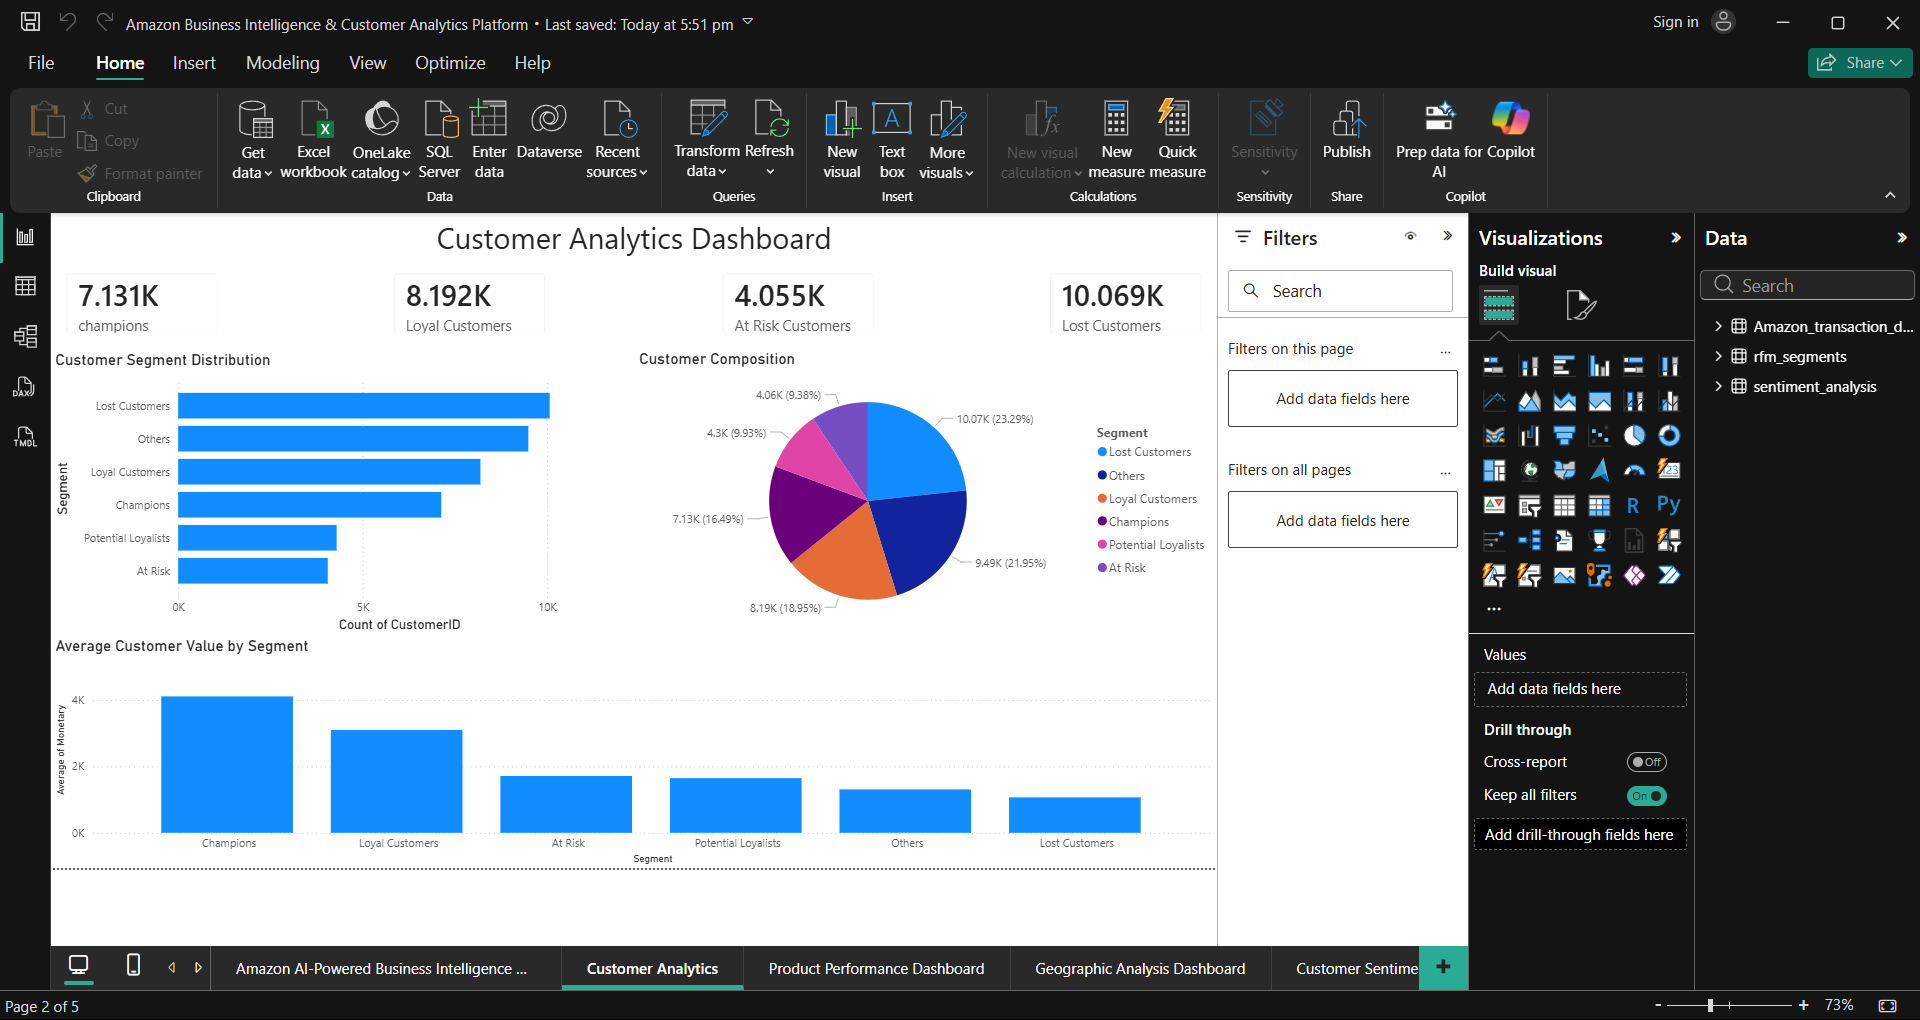

The page's visual inventory and layout, read from the dashboard file:
{"tool":"powerbi","page":{"name":"Customer Analytics","canvas":[1280,720],"ordinal":1},"visuals":[{"type":"textbox","box":[0,0,1280.3,53.5],"z":0},{"type":"clusteredBarChart","title":"Customer Segment Distribution","fields":{"Category":["rfm_segments.Segment"],"Y":["CountNonNull(rfm_segments.CustomerID)"]},"box":[0,150.9,640.8,314.2],"z":1000},{"type":"pieChart","title":"Customer Composition","fields":{"Category":["rfm_segments.Segment"],"Y":["CountNonNull(rfm_segments.CustomerID)"]},"box":[640.8,149.6,639.5,314.2],"z":2000},{"type":"cardVisual","fields":{"Data":["CountNonNull(rfm_segments.CustomerID)"]},"box":[0,49.4,200.3,100.2],"z":3000},{"type":"cardVisual","fields":{"Data":["CountNonNull(rfm_segments.CustomerID)"]},"box":[720,49.4,200.3,100.2],"z":4000},{"type":"cardVisual","fields":{"Data":["CountNonNull(rfm_segments.CustomerID)"]},"box":[360,49.4,200.3,100.2],"z":5000},{"type":"cardVisual","fields":{"Data":["CountNonNull(rfm_segments.CustomerID)"]},"box":[1079.7,49.4,200.3,100.2],"z":6000},{"type":"clusteredColumnChart","title":"Average Customer Value by Segment","fields":{"Category":["rfm_segments.Segment"],"Y":["Avg(rfm_segments.Monetary)"]},"box":[0,465.2,1280.3,255.2],"z":7000}]}

Visuals, with their boxes on the page's 1280x720 design canvas (x1, y1, x2, y2). These are canvas units, not pixel positions in the 1920x1020 screenshot, which may show the page scaled, cropped or inside an application window:
textbox: BBox(0, 0, 1280, 54)
"Customer Segment Distribution" clusteredBarChart: BBox(0, 151, 641, 465)
"Customer Composition" pieChart: BBox(641, 150, 1280, 464)
cardVisual - CountNonNull(rfm_segments.CustomerID): BBox(0, 49, 200, 150)
cardVisual - CountNonNull(rfm_segments.CustomerID): BBox(720, 49, 920, 150)
cardVisual - CountNonNull(rfm_segments.CustomerID): BBox(360, 49, 560, 150)
cardVisual - CountNonNull(rfm_segments.CustomerID): BBox(1080, 49, 1280, 150)
"Average Customer Value by Segment" clusteredColumnChart: BBox(0, 465, 1280, 720)
